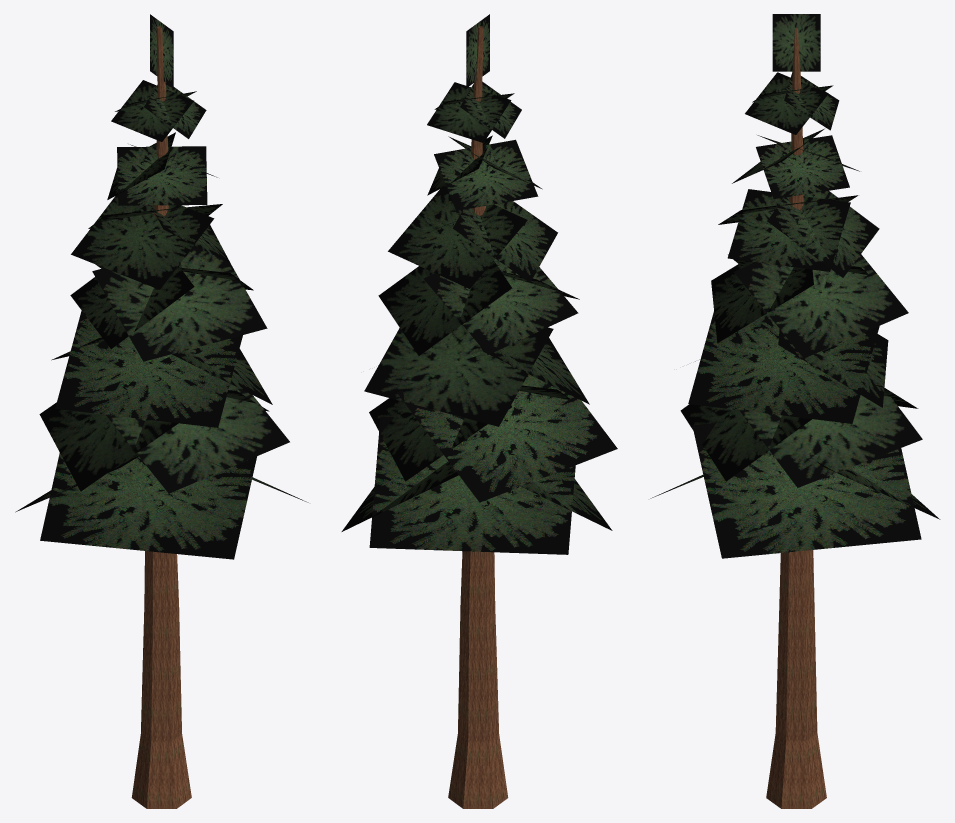
The model's file is Pine_Giant_1_LOD2.gltf.
3 renders of one model, left to right at view 1: azimuth 30°, elevation 25°; view 2: azimuth 150°, elevation 25°; view 3: azimuth 270°, elevation 25°, orthographic.
Visible parts, largest first — view 1: Pine_Giant_1_LOD2; view 2: Pine_Giant_1_LOD2; view 3: Pine_Giant_1_LOD2.
Boxes of the visible parts, x1,y1,x2,y2 form: Pine_Giant_1_LOD2: (15, 14, 308, 808); Pine_Giant_1_LOD2: (341, 14, 617, 808); Pine_Giant_1_LOD2: (650, 14, 940, 808).
Size of the model in its own units: 12.38 by 37.82 by 12.87.
2 materials, 2 textured.
